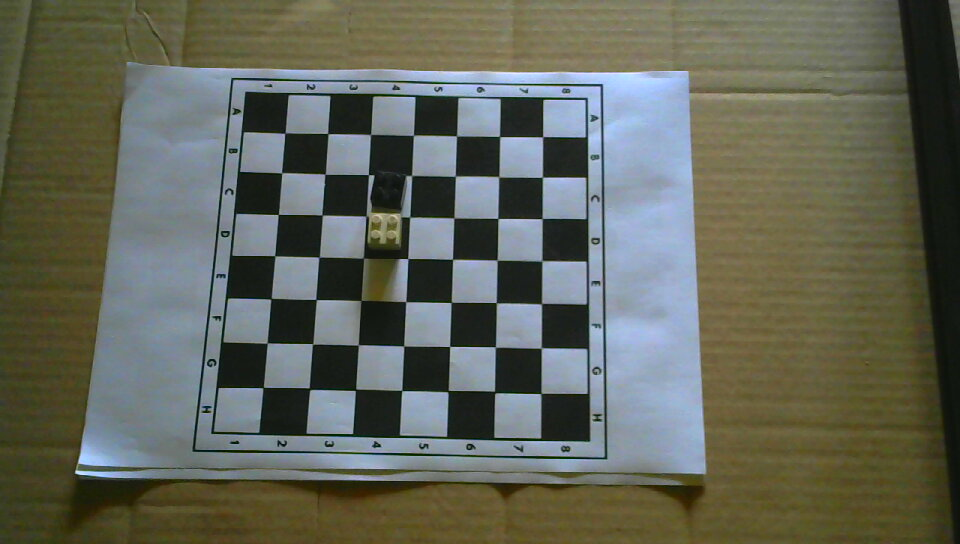bp: (369, 168, 408, 210)
wp: (366, 210, 402, 251)
